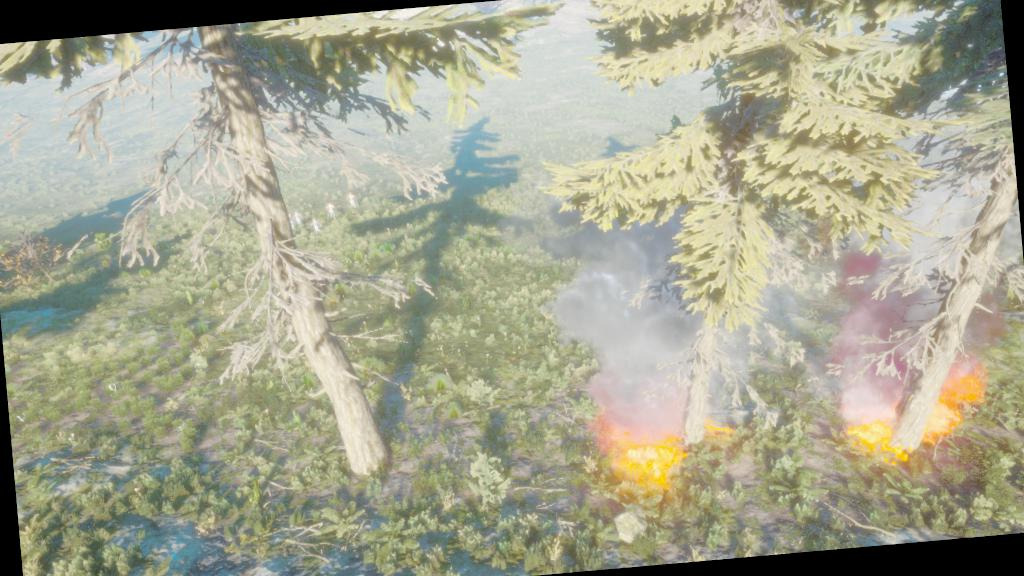Fire: (834, 356, 994, 469), (590, 392, 744, 499)
human: (344, 190, 362, 212), (308, 216, 325, 238), (288, 208, 305, 229), (324, 200, 340, 221)
smoke: (538, 168, 828, 437), (817, 121, 1023, 417)
